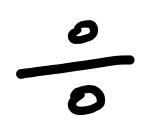div: (16, 19, 134, 115)
